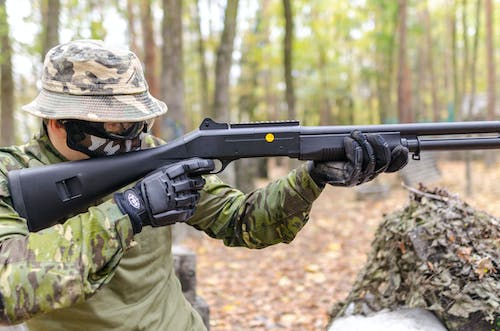gun: (6, 112, 500, 233)
